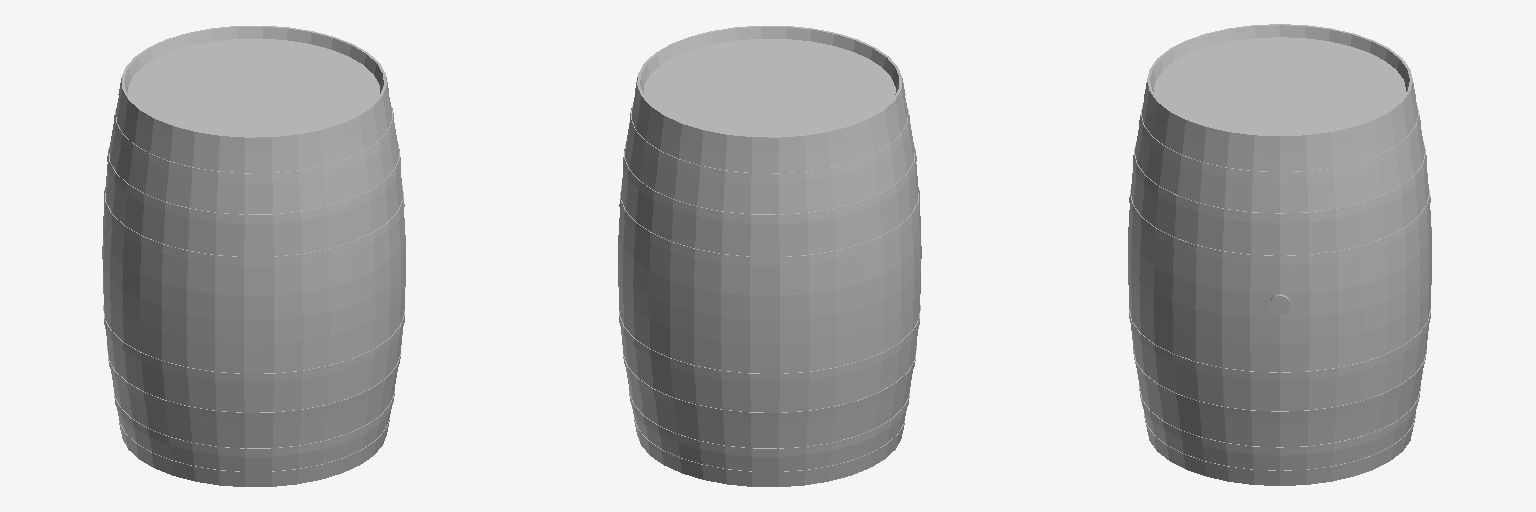
Rendered from Barrel.obj.
3 views of the same model, side by side, from view 1: azimuth 30°, elevation 25°; view 2: azimuth 150°, elevation 25°; view 3: azimuth 270°, elevation 25° (orthographic).
Visible parts, largest first — view 1: Cylinder; view 2: Cylinder; view 3: Cylinder.
Boxes of the visible parts, x1=… form: Cylinder: x1=102, y1=26, x2=405, y2=486; Cylinder: x1=618, y1=26, x2=921, y2=486; Cylinder: x1=1128, y1=24, x2=1431, y2=485.
Size of the model in its own units: 1.84 by 2.31 by 1.82.